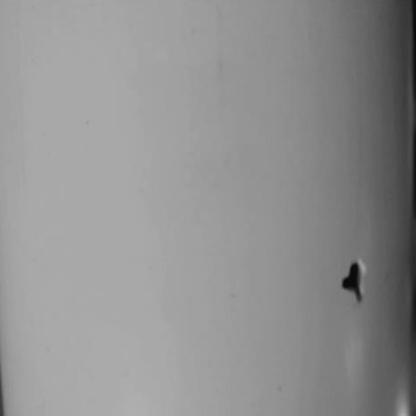kongdong: (332, 254, 382, 316)
